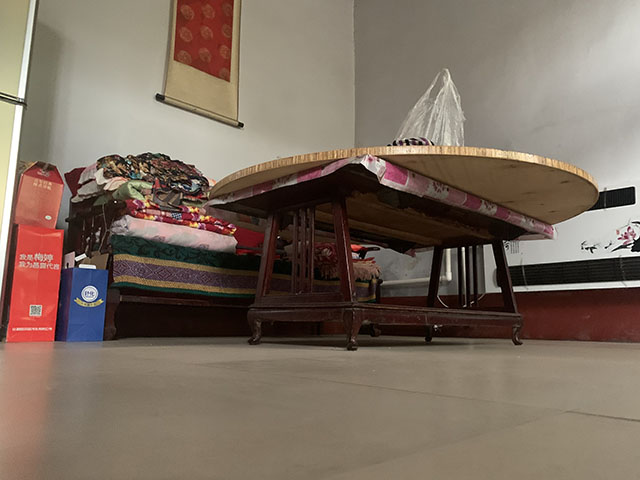sofa: (63, 149, 384, 342)
table: (202, 154, 561, 354)
